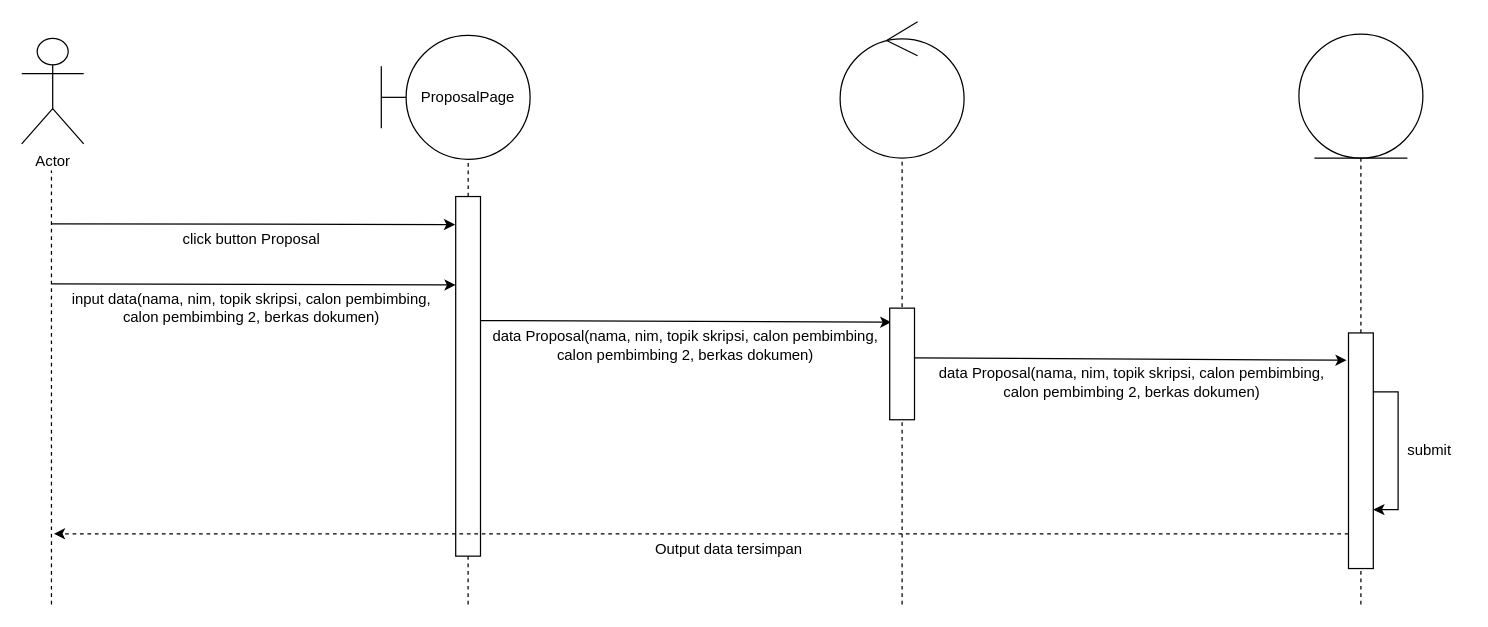
Some shapes in this 1488 by 627 pixel diagram are drawn without their labels. Each missing label, with the centre of its shape:
"Proposal" belongs at point 1360,95.
"ProposalControl" belongs at point 901,89.
